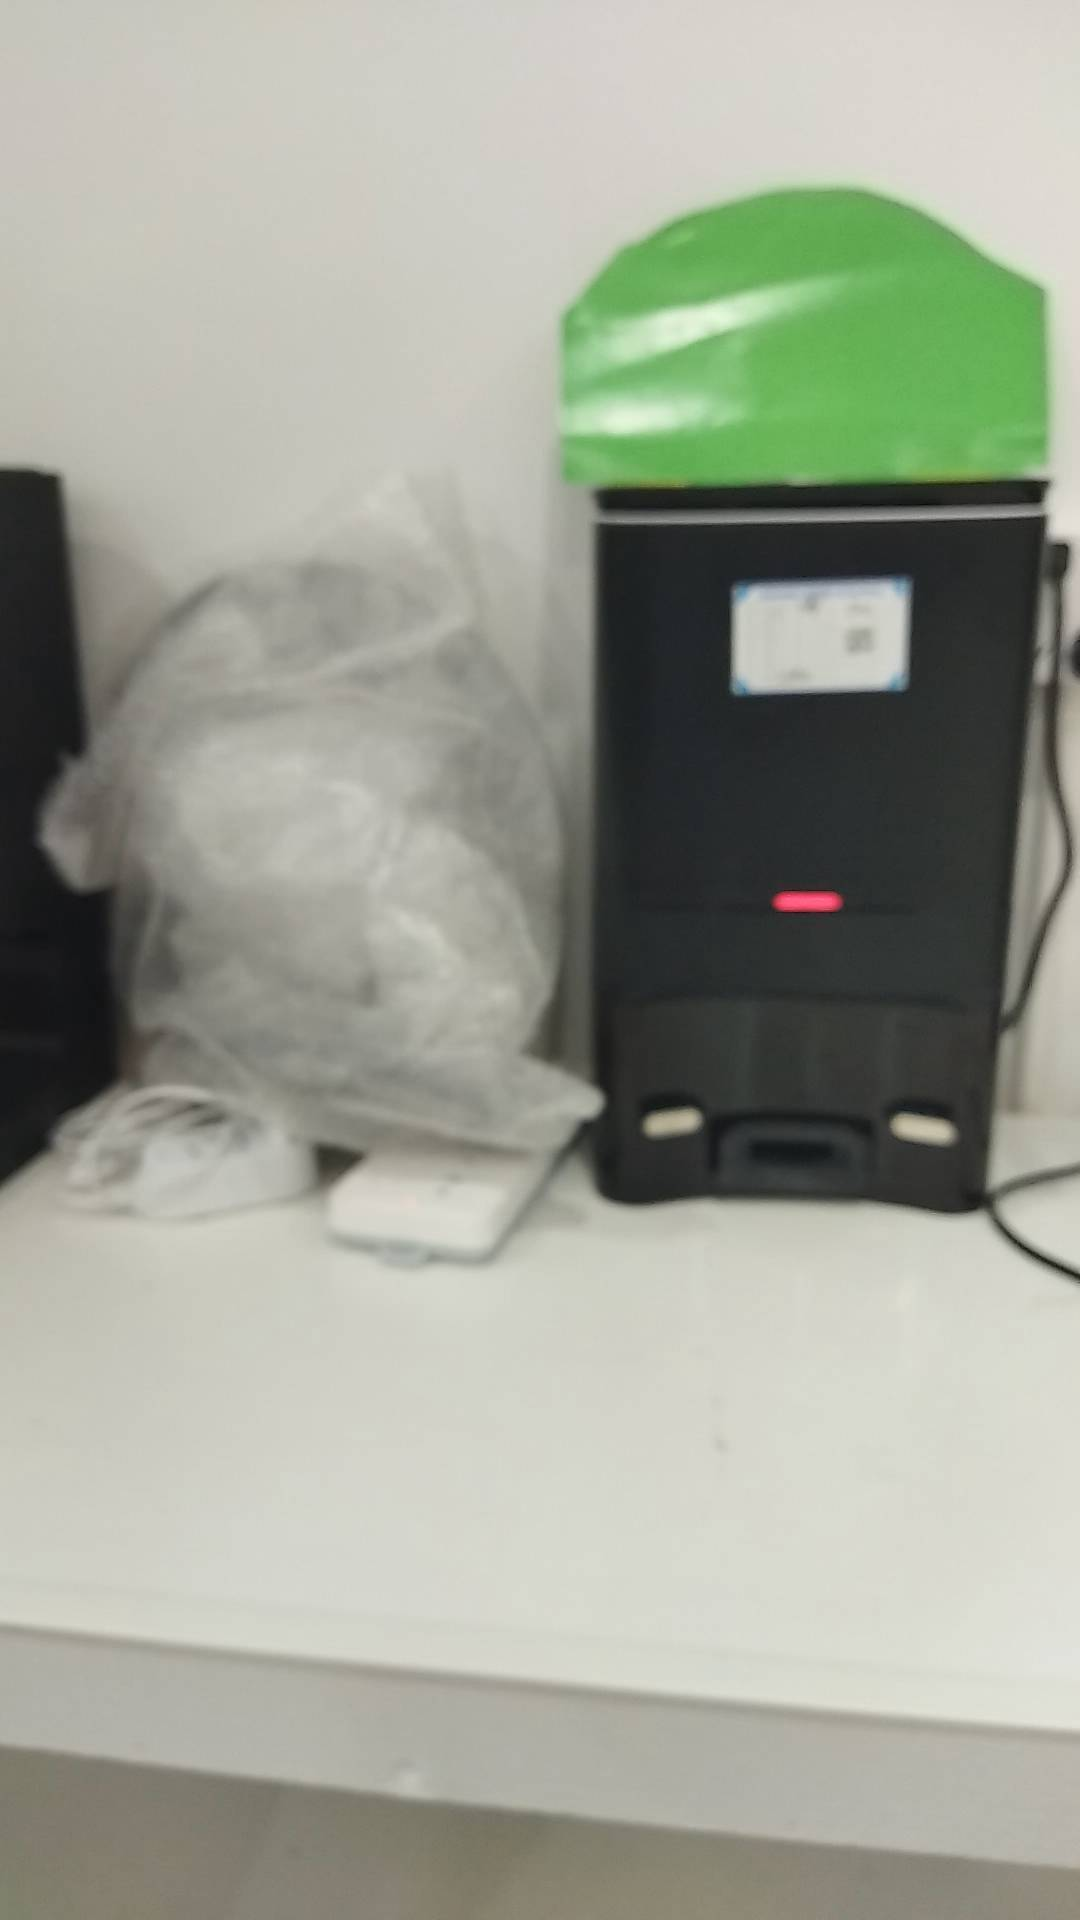dust collecting barrel: (587, 477, 1048, 1208)
